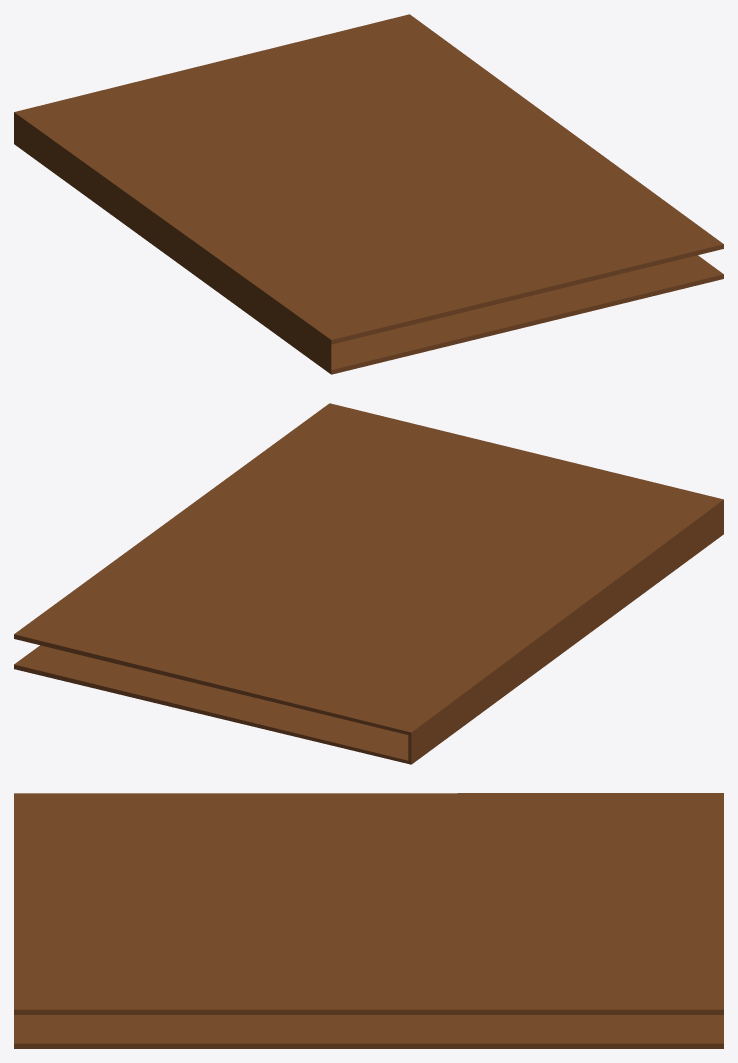
File: plane.004_material.016_0_lev1.glb
The picture shows the model from 3 angles, top to bottom: view 1: azimuth 30°, elevation 25°; view 2: azimuth 150°, elevation 25°; view 3: azimuth 270°, elevation 25°; orthographic projection. The views are drawn at different scales.
Visible parts, largest first — view 1: plane.004_material.016_0_lev1; view 2: plane.004_material.016_0_lev1; view 3: plane.004_material.016_0_lev1.
Part boxes in pixels (x1,y1,x2,y2): plane.004_material.016_0_lev1: (14, 14, 723, 374); plane.004_material.016_0_lev1: (14, 403, 723, 764); plane.004_material.016_0_lev1: (14, 793, 723, 1048).
Bounding box in the file's own units: 7.72 × 0.6467 × 10.62.
